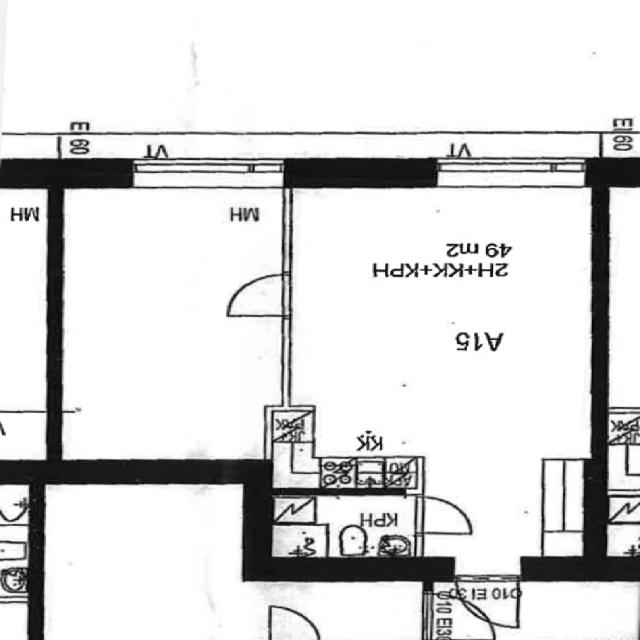door: (445, 572, 525, 634), (216, 268, 293, 320), (409, 490, 479, 542), (260, 601, 326, 640)
window: (421, 148, 600, 190), (121, 152, 293, 190), (266, 317, 300, 410), (411, 587, 436, 640)
zone: (278, 182, 610, 478), (62, 182, 286, 473), (32, 476, 234, 640), (0, 0, 195, 156), (263, 496, 419, 558), (0, 471, 37, 630), (599, 442, 640, 564)
